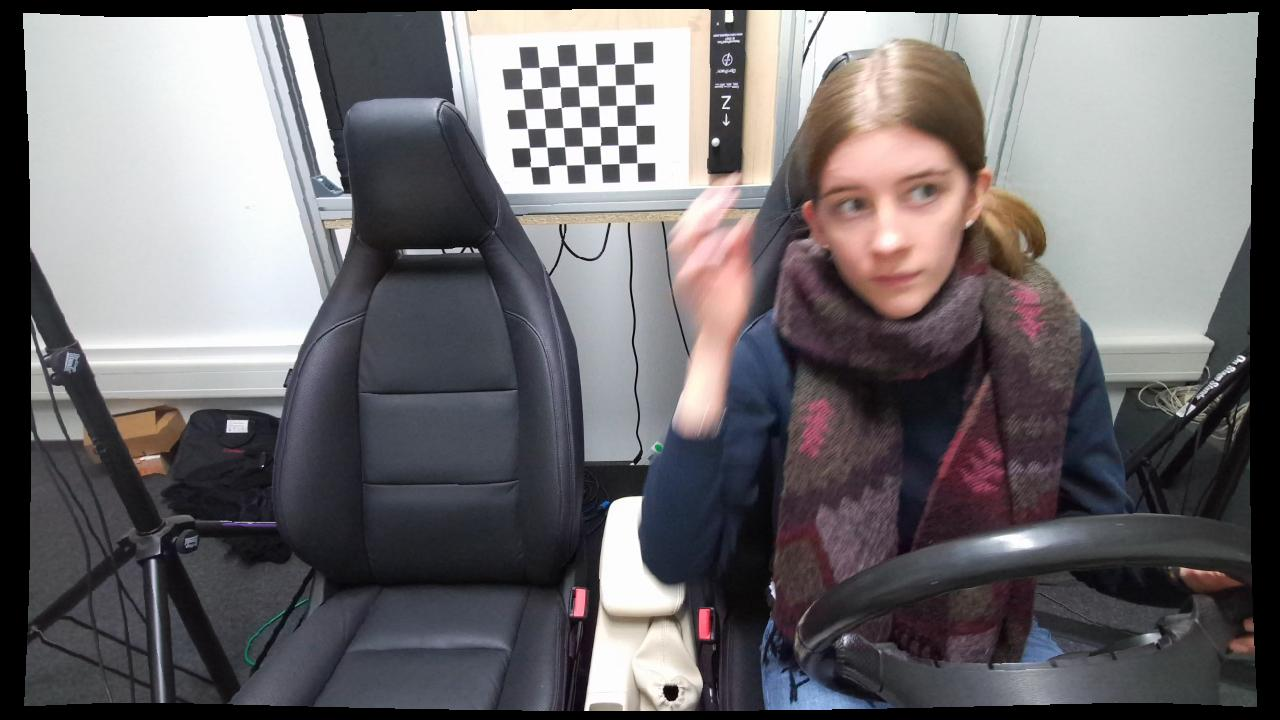Distracted: (631, 42, 1107, 707)
